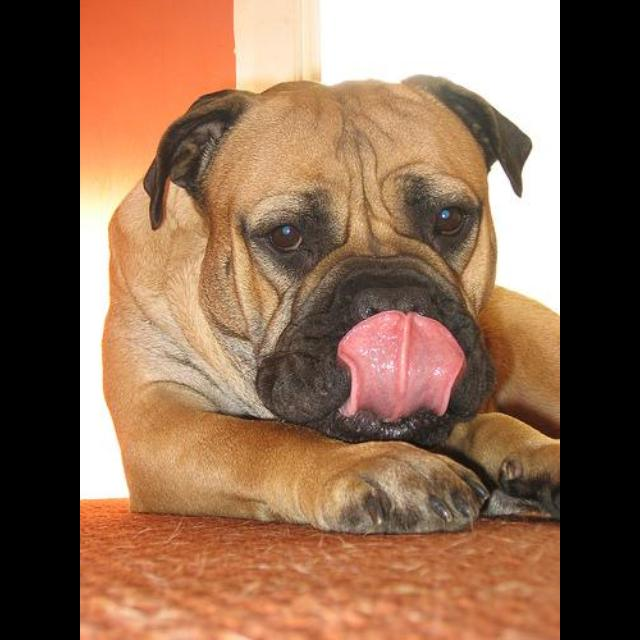bullmastiff: (101, 74, 560, 536)
